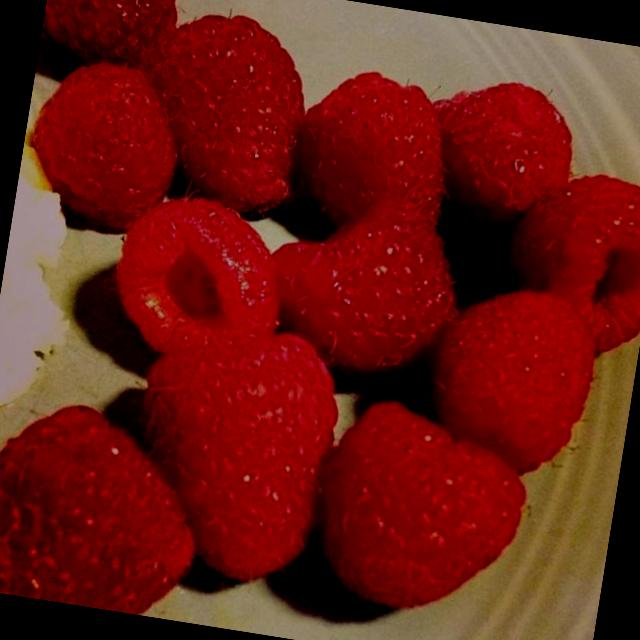Strawberry: (117, 311, 350, 594), (302, 390, 538, 626), (0, 388, 214, 621), (254, 172, 474, 390), (129, 0, 322, 223), (412, 274, 606, 484), (104, 184, 298, 371), (284, 59, 462, 244), (19, 51, 191, 238), (414, 69, 584, 248), (492, 160, 640, 359), (37, 0, 184, 77)
